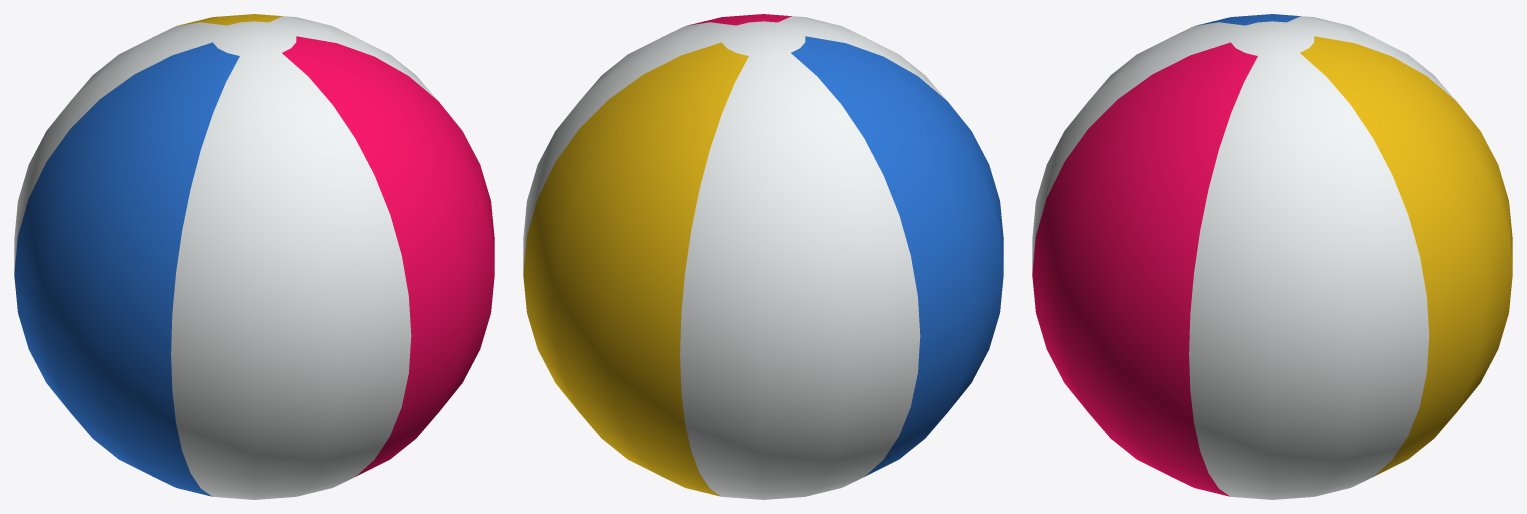
File: Beachball_Mesh_001.fbx
3 views of the same model, side by side, from view 1: azimuth 30°, elevation 25°; view 2: azimuth 150°, elevation 25°; view 3: azimuth 270°, elevation 25° (orthographic).
Parts seen in each view (by area): view 1: Beachball_Mesh_001; view 2: Beachball_Mesh_001; view 3: Beachball_Mesh_001.
Boxes of the visible parts, x1,y1,x2,y2 form: Beachball_Mesh_001: (14,14,494,499); Beachball_Mesh_001: (523,14,1003,499); Beachball_Mesh_001: (1032,14,1512,499).
Size of the model in its own units: 200 by 200 by 197.
